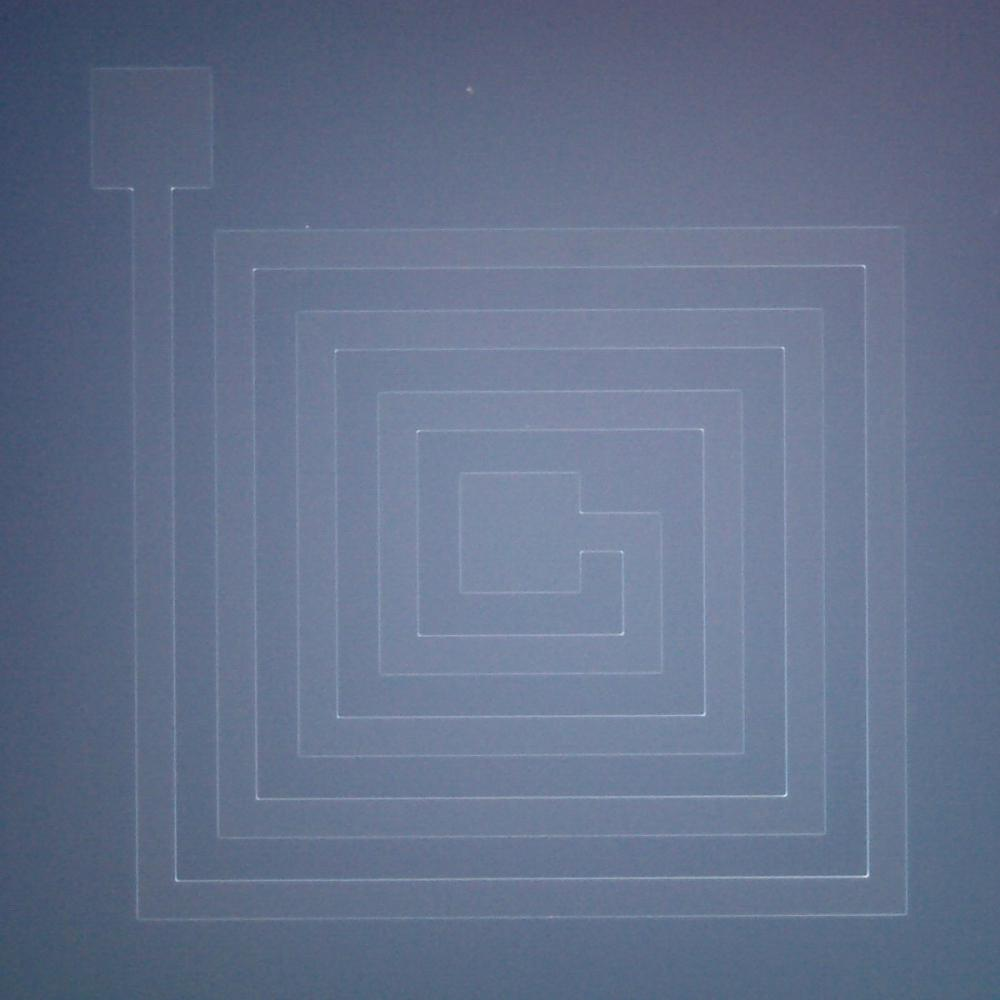dot: (466, 87, 473, 94), (305, 224, 309, 228)
